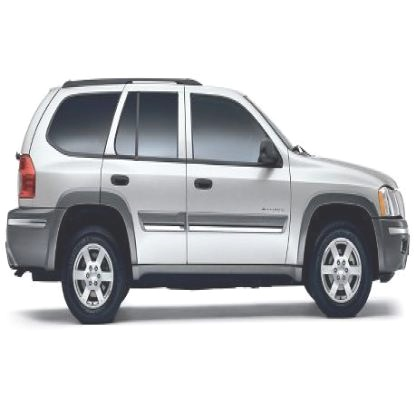Vehicle: (6, 75, 412, 319)
